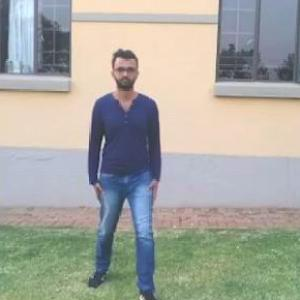follow: (93, 50, 164, 288)
